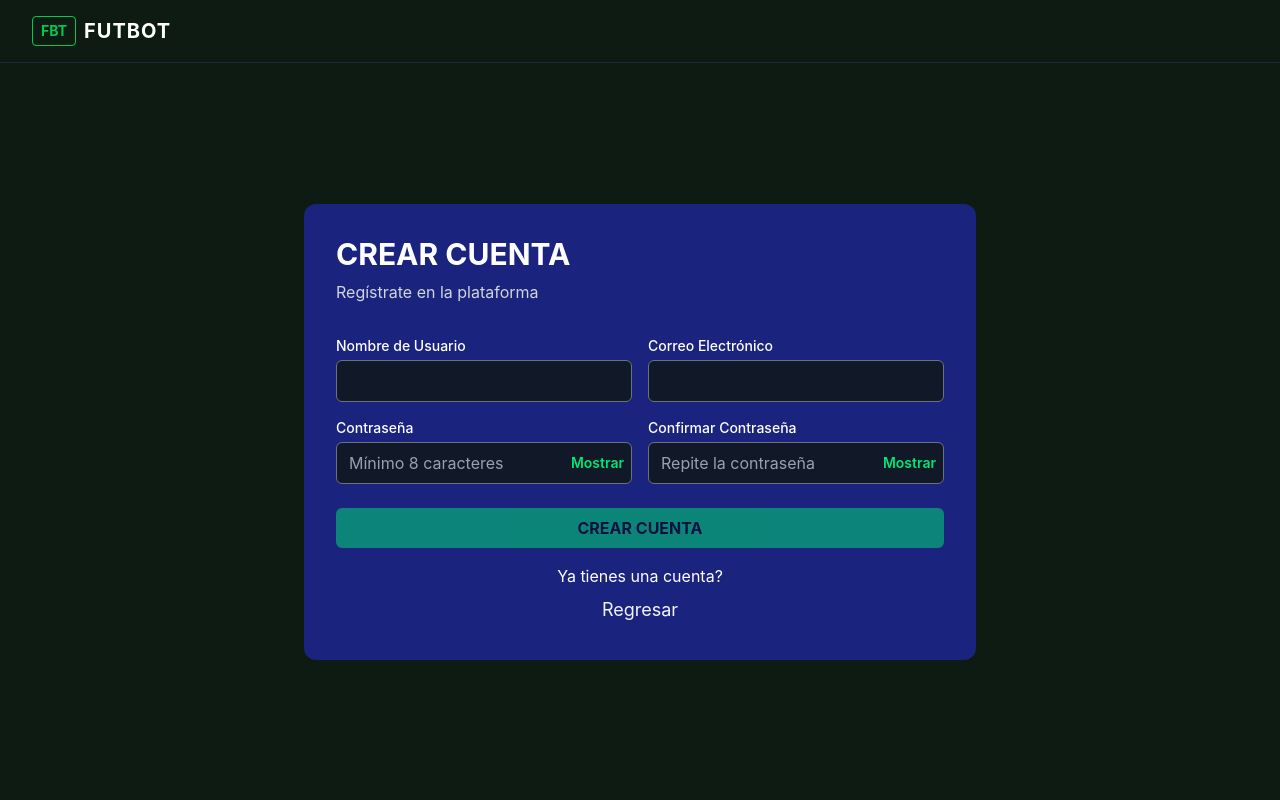
Test case: Registro › muestra un mensaje cuando no hay conexión con el servidor
The image size is (1280, 800).
Type "usuario123" into the field labelled "Nombre de Usuario" at {"x": 484, "y": 380}, box [336, 360, 632, 402]
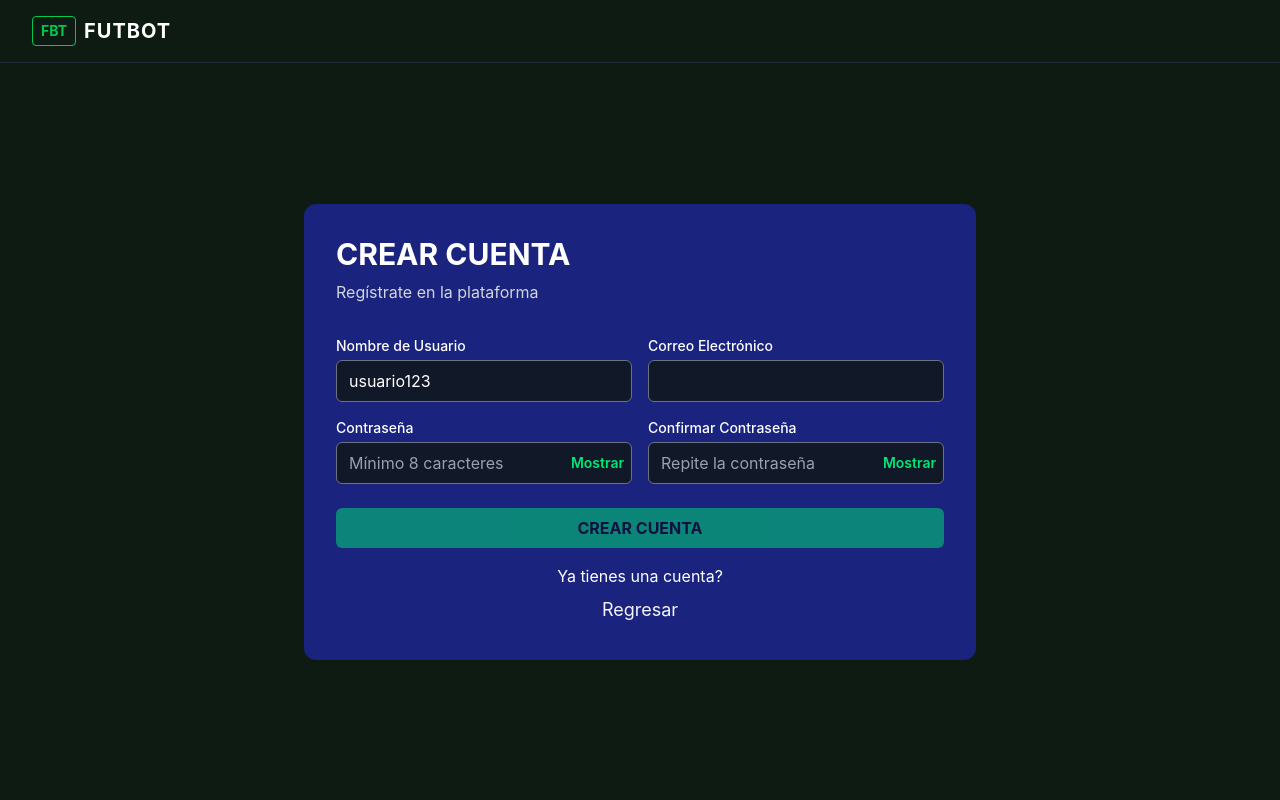
Type "usuario@example.com" into the field labelled "Correo Electrónico" at {"x": 796, "y": 380}, box [648, 360, 944, 402]
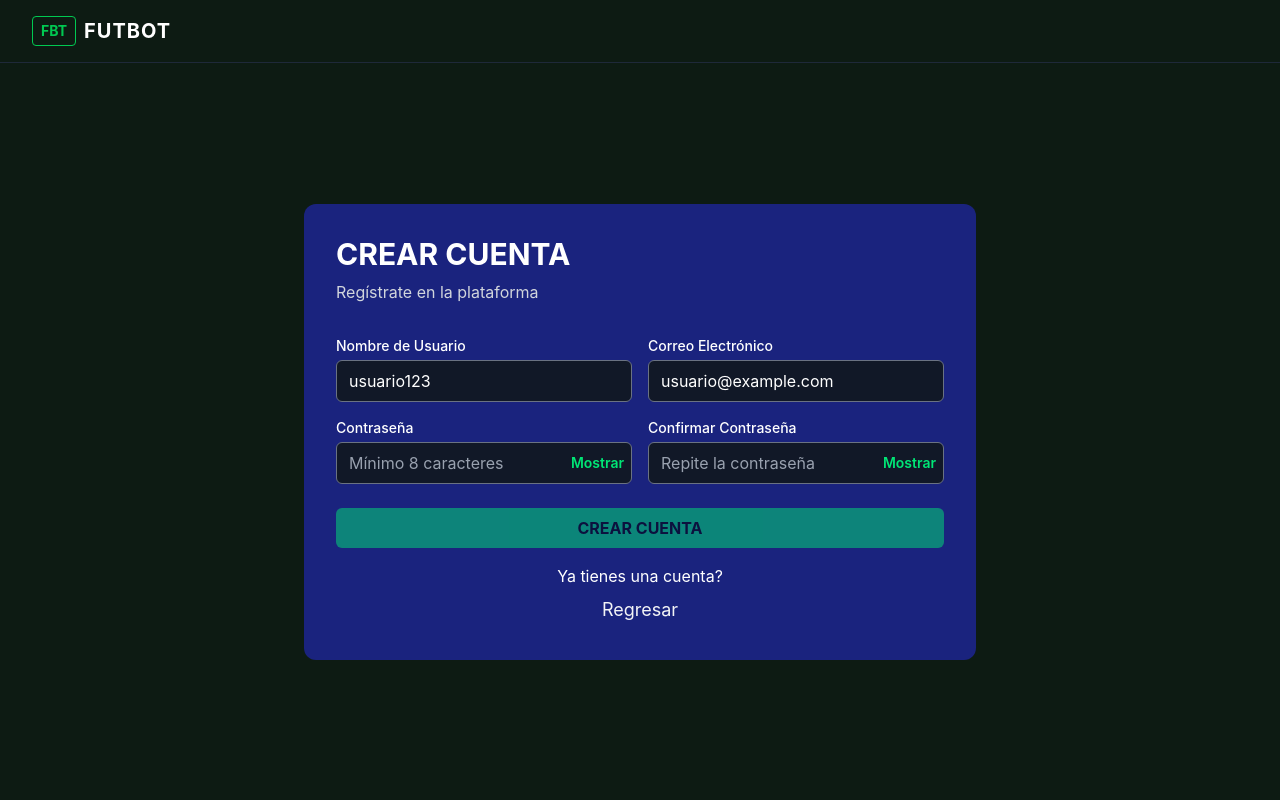
Type "password123" into the password field labelled "Contraseña" at {"x": 484, "y": 462}, box [336, 442, 632, 484]
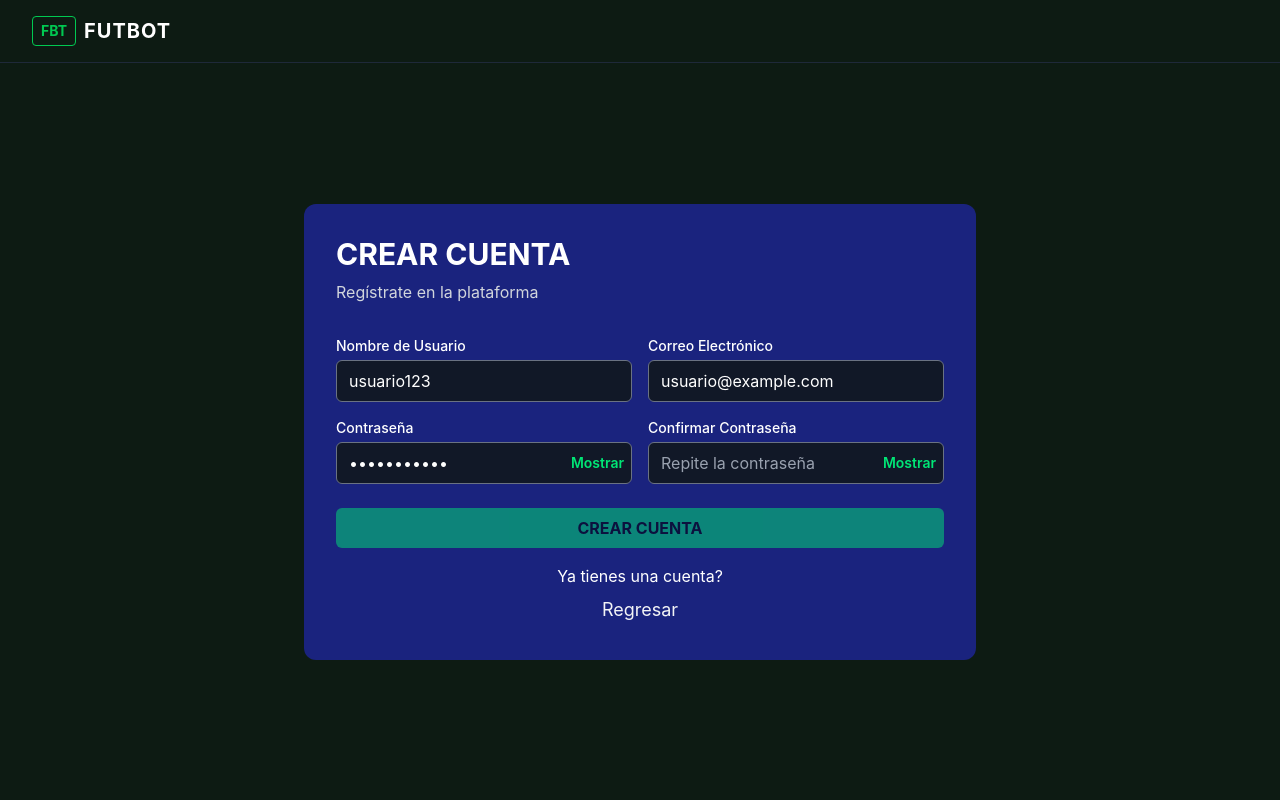
Type "password123" into the password field labelled "Confirmar Contraseña" at {"x": 796, "y": 462}, box [648, 442, 944, 484]
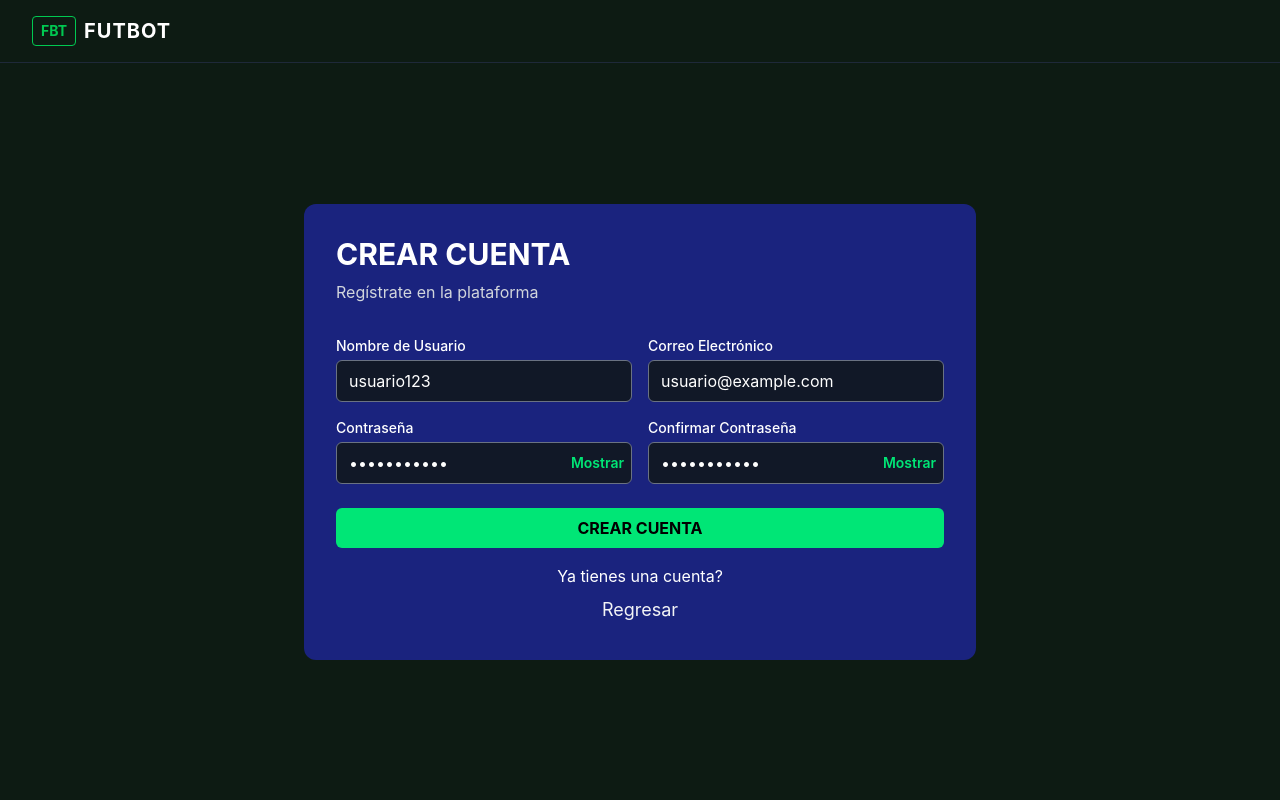
Click the button "CREAR CUENTA" at {"x": 640, "y": 528}, box [336, 508, 944, 548]
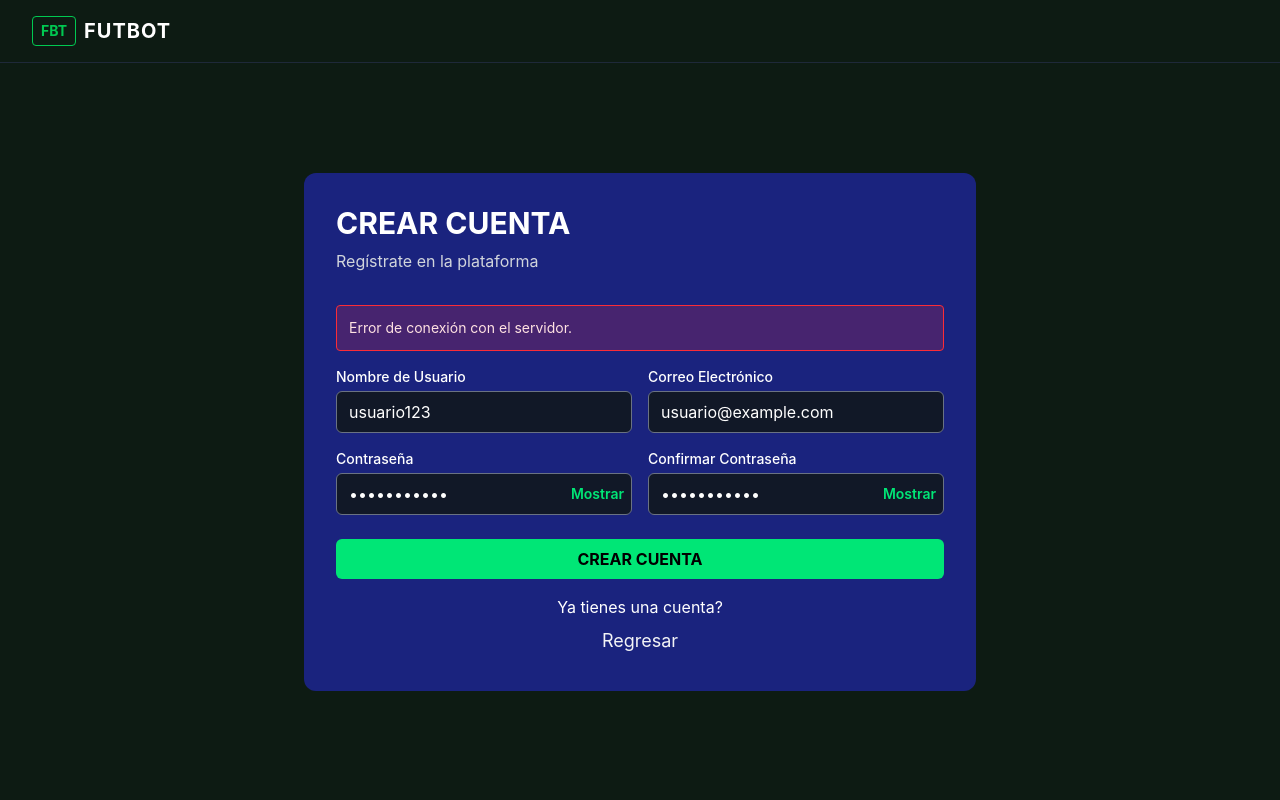
Expected: the text "Error de conexión con el servidor." is shown, [336, 304, 944, 350]
